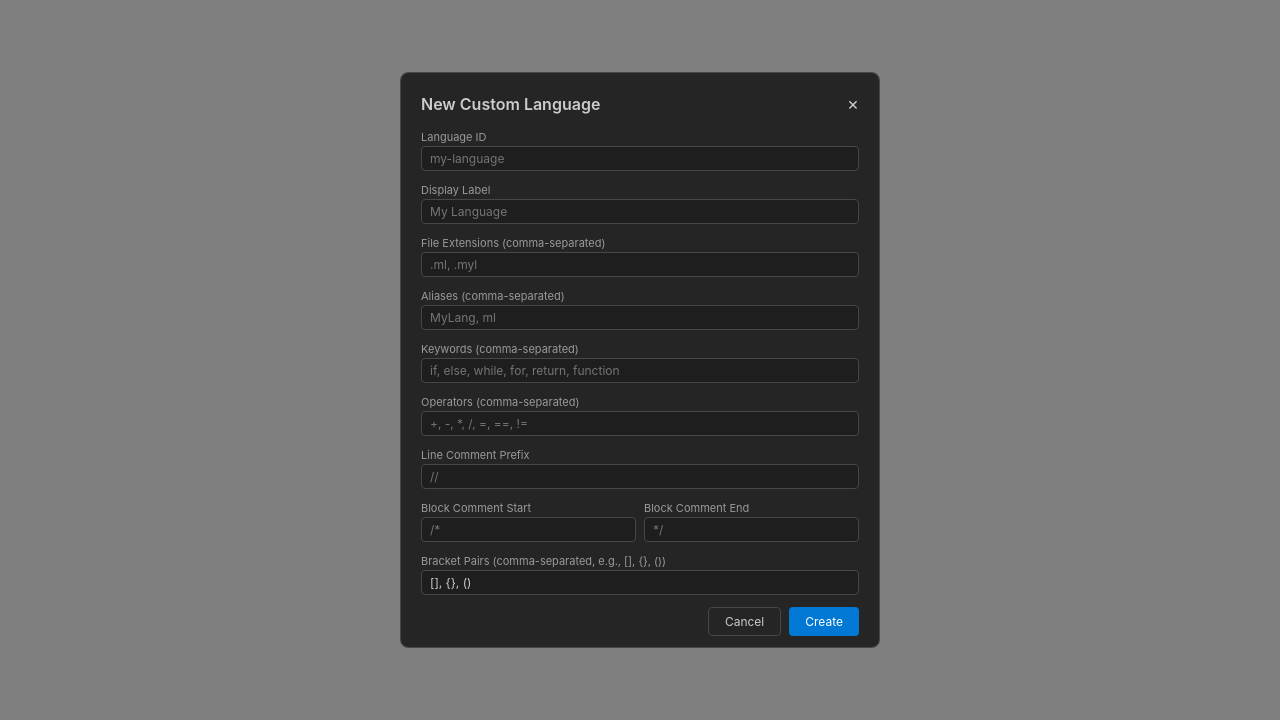
it: CustomLanguageEditorDialogViewPresenter › shows controller errors when registration fails
The width and height of the screenshot is (1280, 720).
Note: Fill in required fields
Step 1. Type "test-lang" into the field with placeholder "my-language" → (640, 158), box [421,146,859,171]
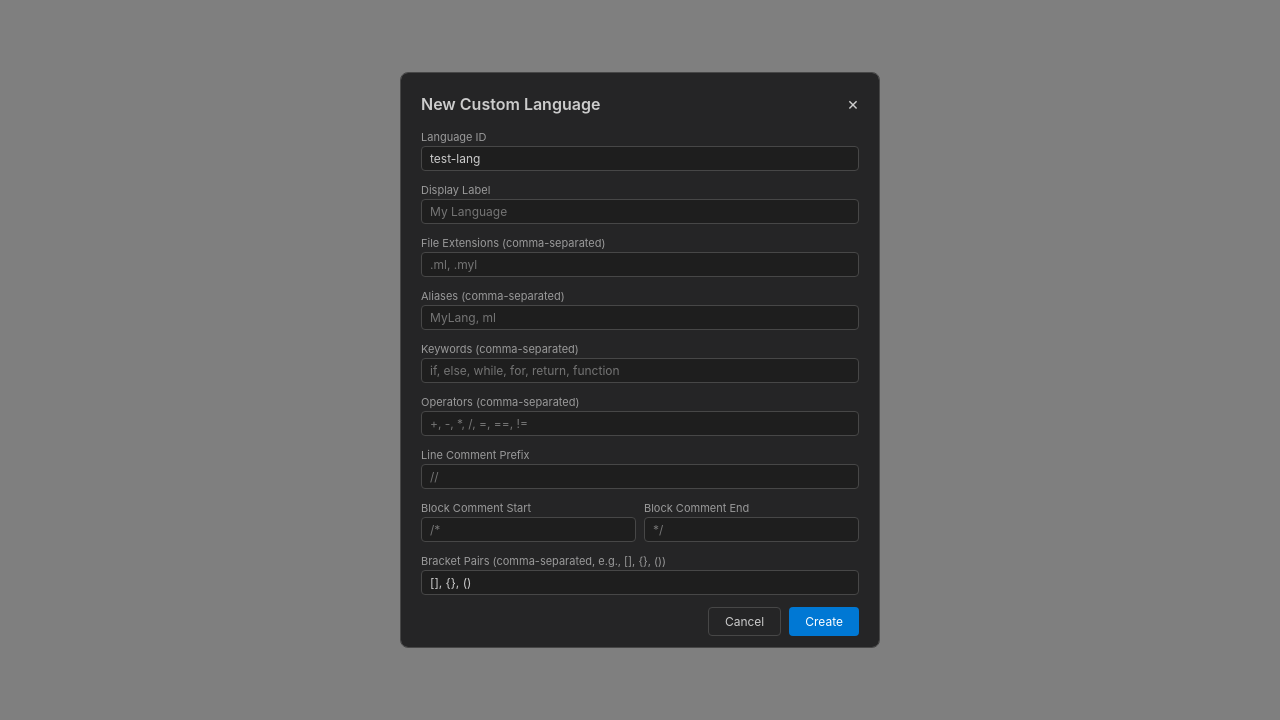
Step 2. Type "Test Language" into the field with placeholder "My Language" → (640, 212), box [421,199,859,224]
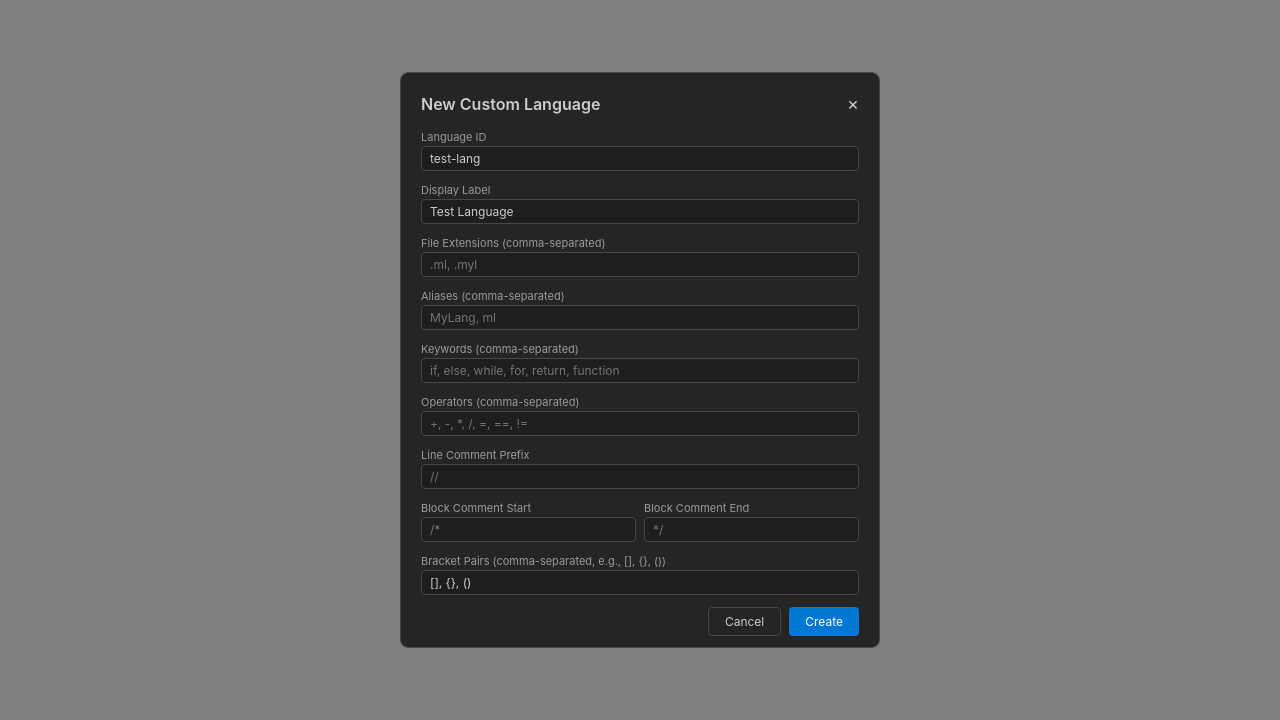
Step 3. Type ".tl" into the field with placeholder ".ml, .myl" → (640, 264), box [421,252,859,277]
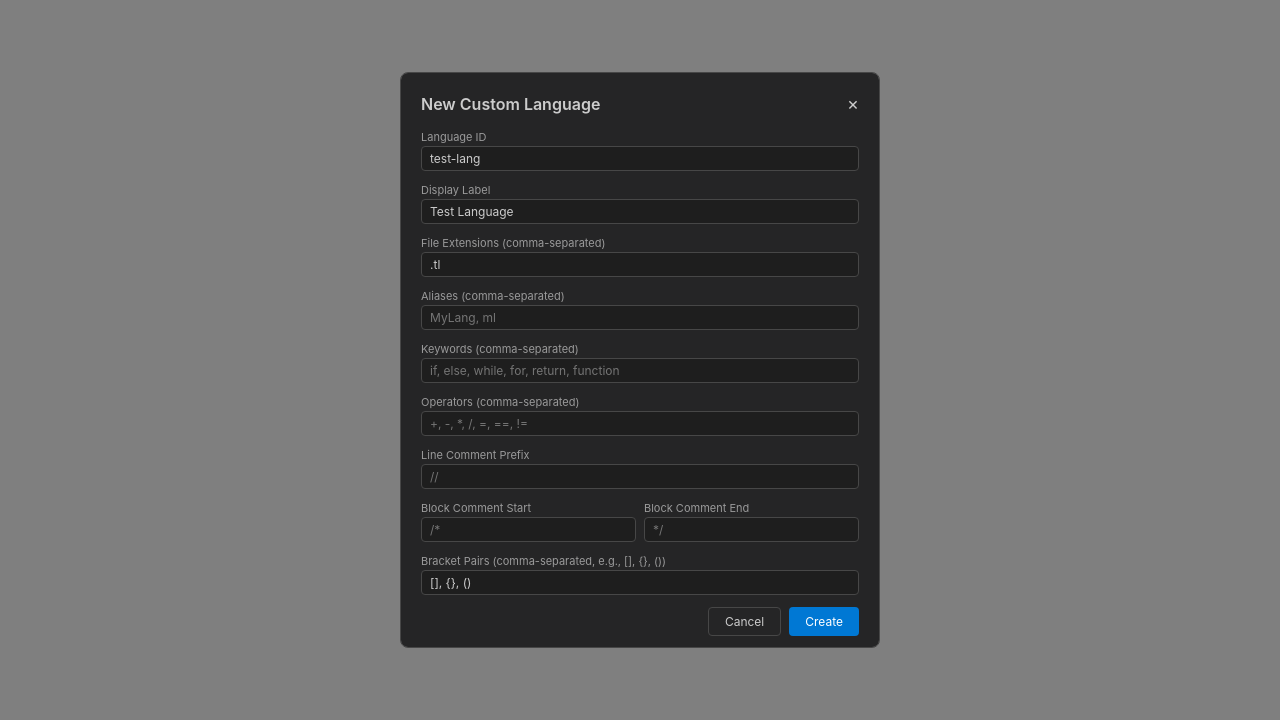
Note: Click save
Step 4. Click the button "Create" → (824, 622), box [789,607,859,636]
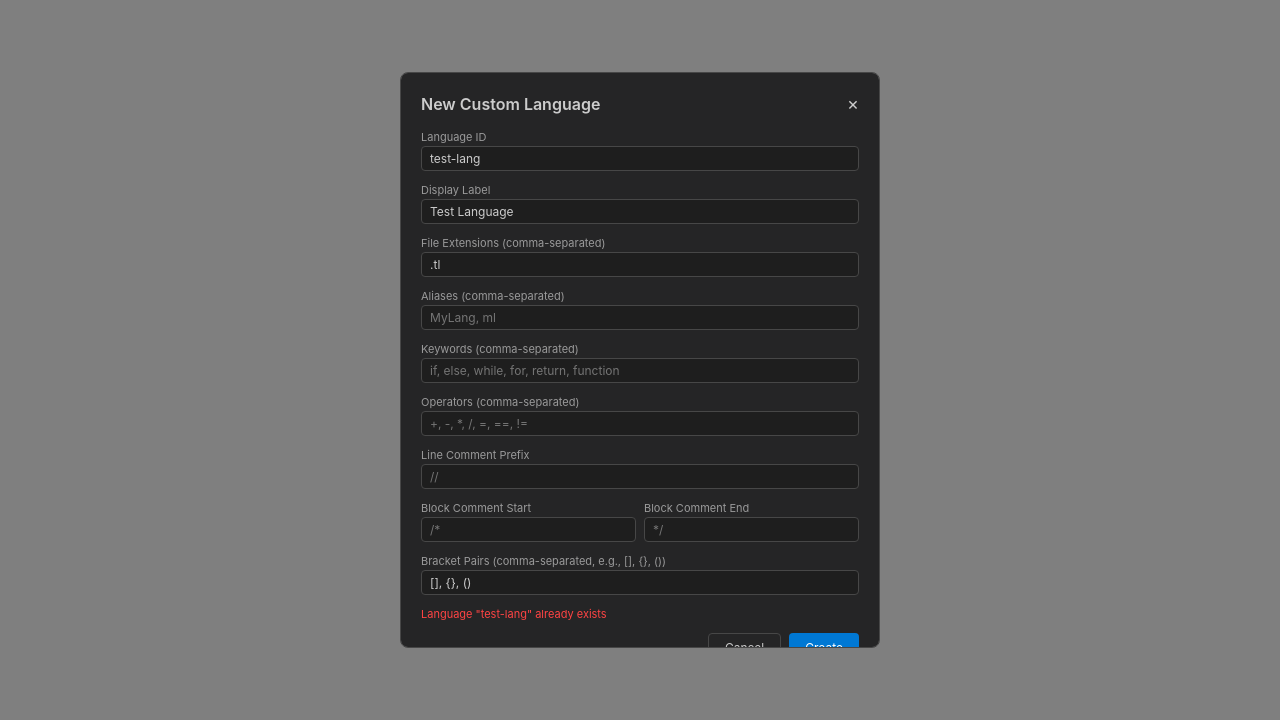
Expected: the text "Language \"test-lang\" already exists" is shown, [421,607,607,621]
